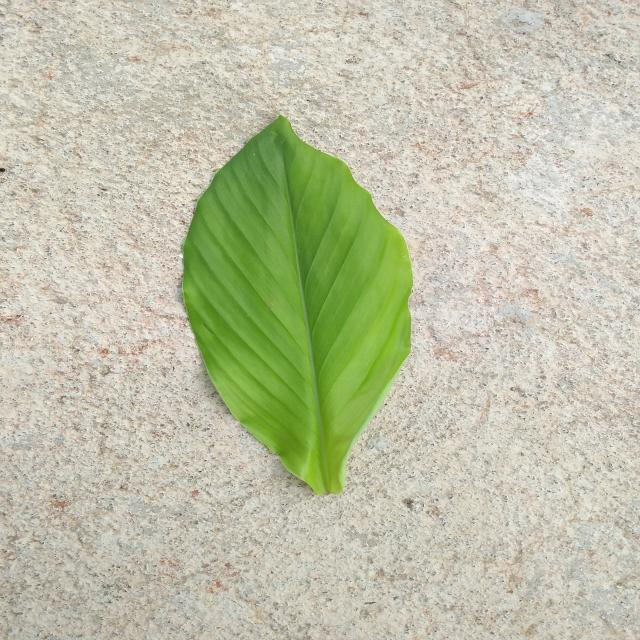turmeric: (182, 116, 413, 494)
